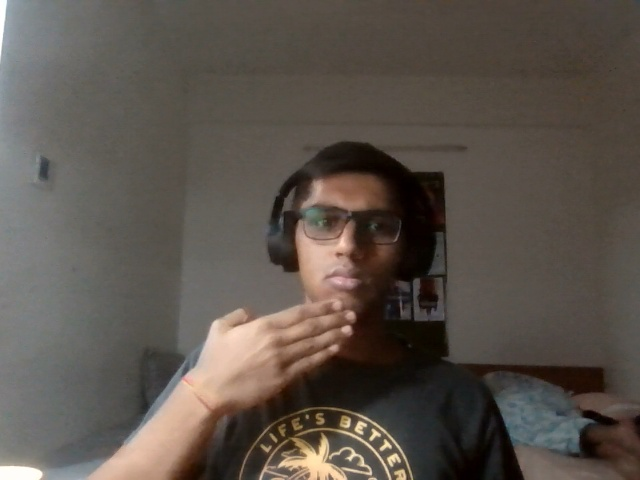thankyou: (189, 293, 368, 413)
